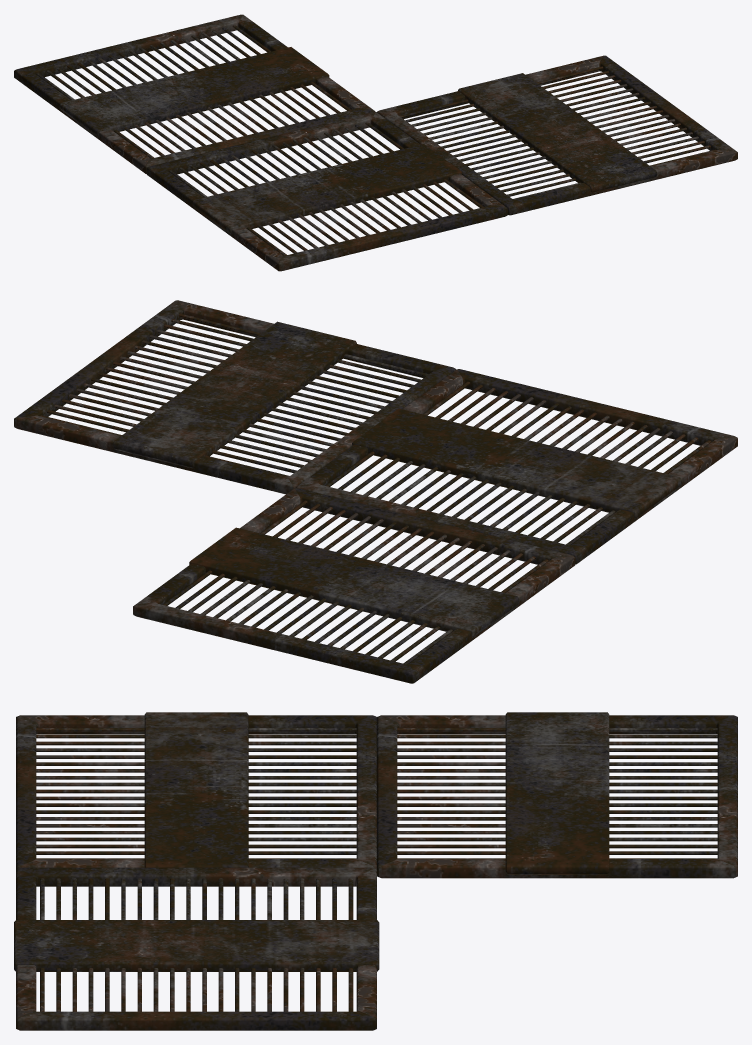
The model's file is Basement_Corridor_A_Floor_Vent_Grill_Corner.glb.
3 renders of one model, top to bottom at view 1: azimuth 30°, elevation 25°; view 2: azimuth 150°, elevation 25°; view 3: azimuth 270°, elevation 25°, orthographic. The views are drawn at different scales.
Visible parts, largest first — view 1: Basement_Corridor_A_Floor_Vent_Grill_Corner; view 2: Basement_Corridor_A_Floor_Vent_Grill_Corner; view 3: Basement_Corridor_A_Floor_Vent_Grill_Corner.
Part boxes in pixels (left/top/right/bottom): Basement_Corridor_A_Floor_Vent_Grill_Corner: left=14, top=14, right=737, bottom=271; Basement_Corridor_A_Floor_Vent_Grill_Corner: left=14, top=300, right=737, bottom=683; Basement_Corridor_A_Floor_Vent_Grill_Corner: left=14, top=712, right=737, bottom=1030.
Size of the model in its own units: 2.67 by 0.0585 by 2.67.
1 material, 1 textured.
